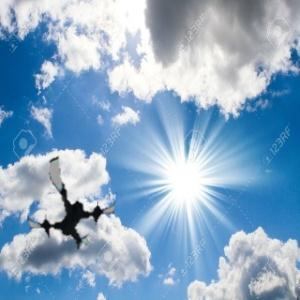drone: (22, 155, 121, 254)
